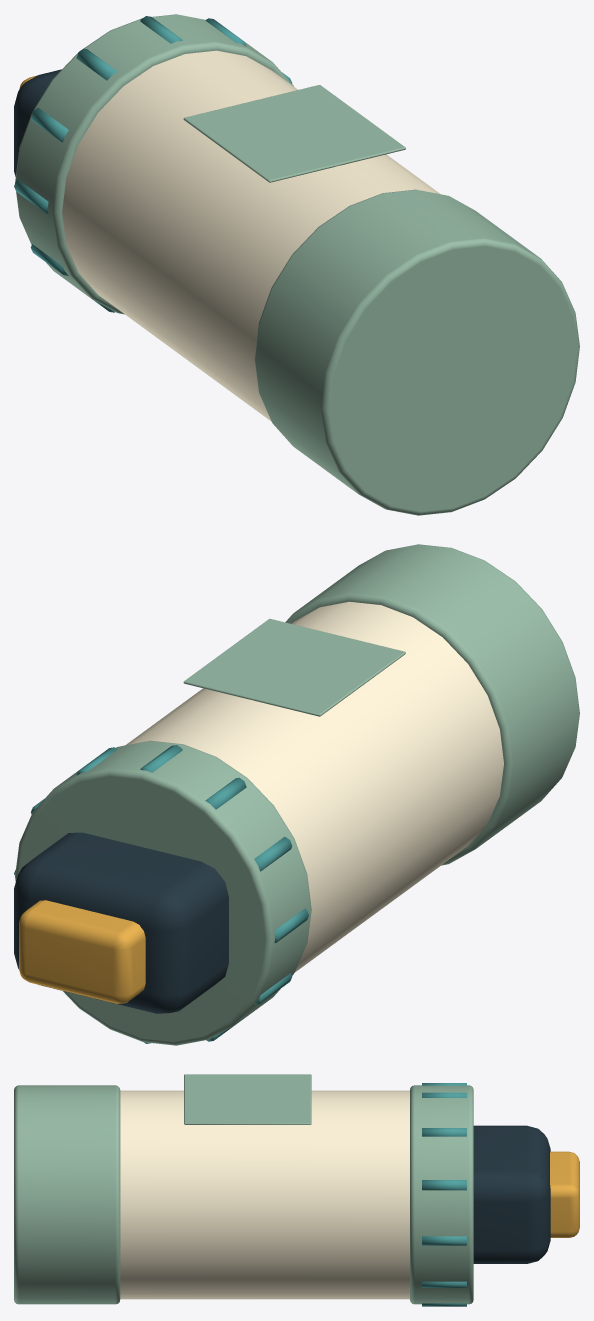
Rendered from part_glue_stick.glb.
3 renders of one model, top to bottom at view 1: azimuth 30°, elevation 25°; view 2: azimuth 150°, elevation 25°; view 3: azimuth 270°, elevation 25°, orthographic. The views are drawn at different scales.
Visible parts, largest first — view 1: Mint cap, Glue barrel, Twist base, Glue label stripe, Universal rubber mounting pad.016; view 2: Glue barrel, Twist base, Mint cap, Universal rubber mounting pad.016, Glue label stripe, Snap-in brass tongue.016; view 3: Glue barrel, Mint cap, Twist base, Universal rubber mounting pad.016, Glue label stripe, Snap-in brass tongue.016, Base grip flute.001, Base grip flute, Base grip flute.002, Base grip flute.011.
Part boxes in pixels (x1,y1,x2,y2): Mint cap: [254, 189, 579, 515]; Glue barrel: [62, 50, 440, 421]; Twist base: [15, 14, 293, 314]; Glue label stripe: [183, 85, 405, 182]; Universal rubber mounting pad.016: [14, 69, 61, 176]; Glue barrel: [125, 601, 503, 972]; Twist base: [15, 740, 311, 1045]; Mint cap: [285, 544, 579, 865]; Universal rubber mounting pad.016: [14, 832, 228, 1013]; Glue label stripe: [183, 619, 405, 716]; Snap-in brass tongue.016: [19, 900, 145, 1003]; Glue barrel: [120, 1090, 409, 1299]; Mint cap: [14, 1085, 120, 1304]; Twist base: [410, 1085, 473, 1304]; Universal rubber mounting pad.016: [473, 1125, 550, 1263]; Glue label stripe: [184, 1074, 311, 1124]; Snap-in brass tongue.016: [550, 1151, 579, 1237]; Base grip flute.001: [422, 1180, 466, 1190]; Base grip flute: [422, 1236, 466, 1245]; Base grip flute.002: [422, 1128, 466, 1136]; Base grip flute.011: [422, 1281, 466, 1287].
Size of the model in its own units: 0.00848 by 0.00848 by 0.0213.
